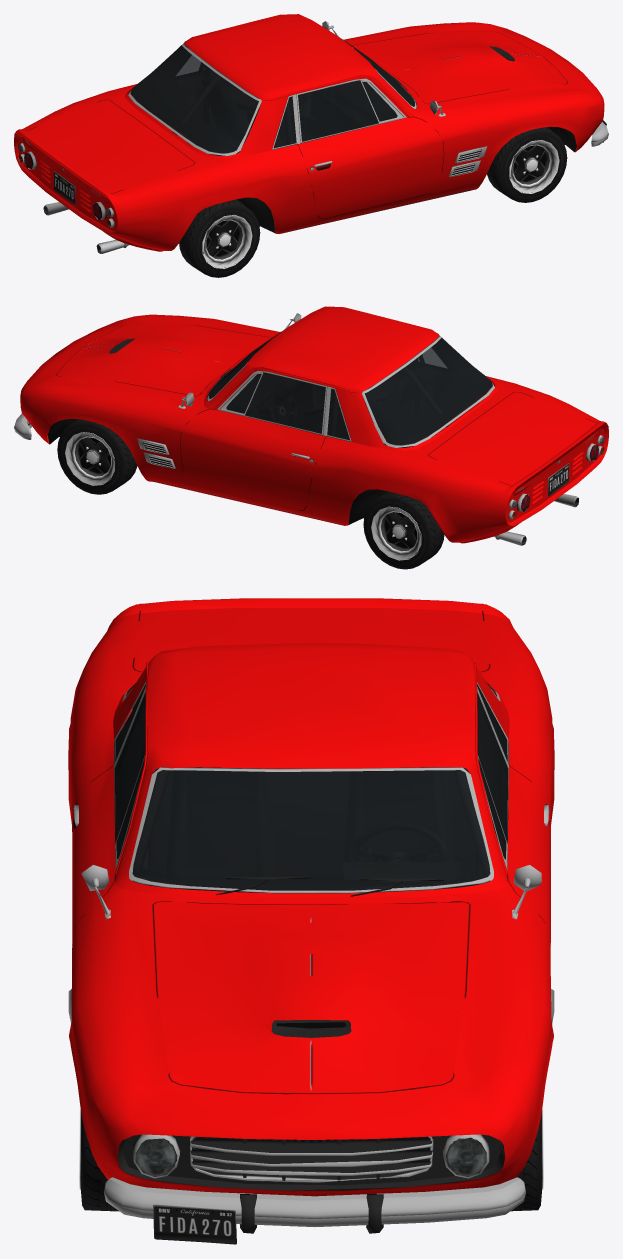
The model's file is sanremo.glb.
3 renders of one model, top to bottom at view 1: azimuth 30°, elevation 25°; view 2: azimuth 150°, elevation 25°; view 3: azimuth 270°, elevation 25°, orthographic. The views are drawn at different scales.
Visible parts, largest first — view 1: Sanremo70_Body_Sanremo70_Bodymat_0, Sanremo70_Interior_UCB_Interiors_2_0, Sanremo70_Hood_Sanremo70_Bodymat_0, Sanremo70_Glass_Rear_UCB_Lights_and_Glass_Transperent_0, Sanremo70_Bottom_UCB_BOTTOM_LT_0, Sanremo70_WheelStock_RR_RB1c_Tire_1k_0, Sanremo70_WheelStock_FR_RB1c_Tire_1k_0, Sanremo70_Glass_Passenger_UCB_Lights_and_Glass_Transperent_0, Sanremo70_Trim_UCB_GenMaskTrim_0, Sanremo70_Glass_Body_UCB_Lights_and_Glass_Transperent_0, Sanremo70_Windshield_UCB_Lights_and_Glass_Transperent_0, Sanremo70_Numberplate_Rear_Numberplates_Misk_U_0; view 2: Sanremo70_Body_Sanremo70_Bodymat_0, Sanremo70_Interior_UCB_Interiors_2_0, Sanremo70_Hood_Sanremo70_Bodymat_0, Sanremo70_Glass_Rear_UCB_Lights_and_Glass_Transperent_0, Sanremo70_Bottom_UCB_BOTTOM_LT_0, Sanremo70_WheelStock_RL_RB1c_Tire_1k_0, Sanremo70_WheelStock_FL_RB1c_Tire_1k_0, Sanremo70_Glass_Driver_UCB_Lights_and_Glass_Transperent_0, Sanremo70_Trim_UCB_GenMaskTrim_0, Sanremo70_Glass_Body_UCB_Lights_and_Glass_Transperent_0, Sanremo70_Steering_Wheels_UCB_Interiors_2_0, Sanremo70_Windshield_UCB_Lights_and_Glass_Transperent_0 (+1 smaller); view 3: Sanremo70_Body_Sanremo70_Bodymat_0, Sanremo70_Hood_Sanremo70_Bodymat_0, Sanremo70_Interior_UCB_Interiors_2_0, Sanremo70_Windshield_UCB_Lights_and_Glass_Transperent_0, Sanremo70_Bottom_UCB_BOTTOM_LT_0, Sanremo70_Bumper_Front_UCB_BOTTOM_LT_0, Sanremo70_Numberplate_Front_Numberplates_Misk_U_0, Sanremo70_Glass_Driver_UCB_Lights_and_Glass_Transperent_0, Sanremo70_Glass_Passenger_UCB_Lights_and_Glass_Transperent_0, Sanremo70_Headlights_Glass_UCB_Lights_and_Glass_Transperent_, Sanremo70_Headlights_UCB_Lights_and_Glass_0, Sanremo70_Steering_Wheels_UCB_Interiors_2_0 (+4 smaller).
Boxes of the visible parts, x1,y1,x2,y2 form: Sanremo70_Body_Sanremo70_Bodymat_0: [14, 14, 604, 251]; Sanremo70_Interior_UCB_Interiors_2_0: [131, 45, 412, 208]; Sanremo70_Hood_Sanremo70_Bodymat_0: [352, 31, 567, 103]; Sanremo70_Glass_Rear_UCB_Lights_and_Glass_Transperent_0: [130, 45, 258, 153]; Sanremo70_Bottom_UCB_BOTTOM_LT_0: [18, 21, 576, 253]; Sanremo70_WheelStock_RR_RB1c_Tire_1k_0: [179, 199, 260, 277]; Sanremo70_WheelStock_FR_RB1c_Tire_1k_0: [487, 127, 567, 202]; Sanremo70_Glass_Passenger_UCB_Lights_and_Glass_Transperent_0: [298, 80, 397, 141]; Sanremo70_Trim_UCB_GenMaskTrim_0: [23, 33, 567, 232]; Sanremo70_Glass_Body_UCB_Lights_and_Glass_Transperent_0: [273, 96, 296, 148]; Sanremo70_Windshield_UCB_Lights_and_Glass_Transperent_0: [338, 36, 414, 106]; Sanremo70_Numberplate_Rear_Numberplates_Misk_U_0: [54, 171, 75, 204]; Sanremo70_Body_Sanremo70_Bodymat_0: [20, 306, 608, 543]; Sanremo70_Interior_UCB_Interiors_2_0: [211, 338, 491, 497]; Sanremo70_Hood_Sanremo70_Bodymat_0: [57, 324, 271, 395]; Sanremo70_Glass_Rear_UCB_Lights_and_Glass_Transperent_0: [364, 337, 492, 445]; Sanremo70_Bottom_UCB_BOTTOM_LT_0: [47, 313, 604, 545]; Sanremo70_WheelStock_RL_RB1c_Tire_1k_0: [363, 491, 444, 569]; Sanremo70_WheelStock_FL_RB1c_Tire_1k_0: [57, 419, 137, 494]; Sanremo70_Glass_Driver_UCB_Lights_and_Glass_Transperent_0: [226, 372, 325, 433]; Sanremo70_Trim_UCB_GenMaskTrim_0: [56, 324, 599, 524]; Sanremo70_Glass_Body_UCB_Lights_and_Glass_Transperent_0: [327, 388, 349, 440]; Sanremo70_Steering_Wheels_UCB_Interiors_2_0: [269, 385, 296, 427]; Sanremo70_Windshield_UCB_Lights_and_Glass_Transperent_0: [209, 329, 284, 398]; Sanremo70_Body_Sanremo70_Bodymat_0: [68, 598, 554, 1196]; Sanremo70_Hood_Sanremo70_Bodymat_0: [153, 901, 469, 1094]; Sanremo70_Interior_UCB_Interiors_2_0: [115, 684, 507, 892]; Sanremo70_Windshield_UCB_Lights_and_Glass_Transperent_0: [132, 770, 490, 890]; Sanremo70_Bottom_UCB_BOTTOM_LT_0: [68, 682, 554, 1190]; Sanremo70_Bumper_Front_UCB_BOTTOM_LT_0: [104, 1177, 525, 1233]; Sanremo70_Numberplate_Front_Numberplates_Misk_U_0: [153, 1204, 236, 1244]; Sanremo70_Glass_Driver_UCB_Lights_and_Glass_Transperent_0: [477, 692, 507, 859]; Sanremo70_Glass_Passenger_UCB_Lights_and_Glass_Transperent_0: [115, 692, 145, 858]; Sanremo70_Headlights_Glass_UCB_Lights_and_Glass_Transperent_: [136, 1138, 486, 1176]; Sanremo70_Headlights_UCB_Lights_and_Glass_0: [136, 1138, 486, 1175]; Sanremo70_Steering_Wheels_UCB_Interiors_2_0: [350, 821, 447, 861].
Size of the model in its own units: 4.18 by 1.25 by 1.72.
Materials: 9 (8 with a texture image).
